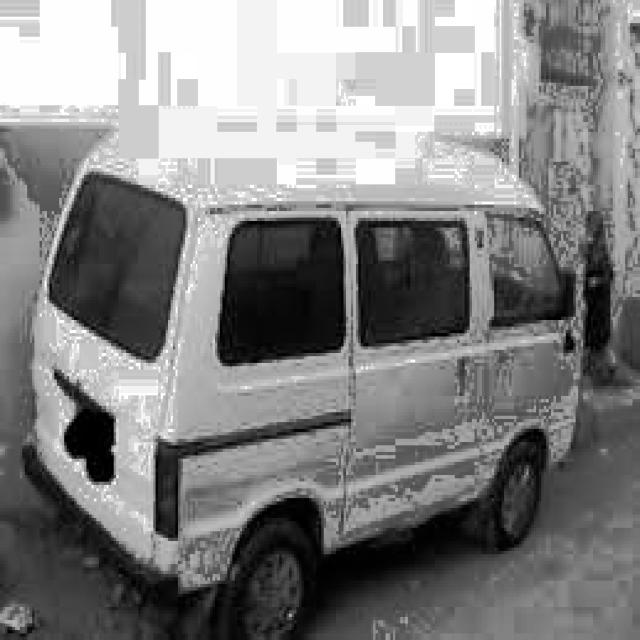LCV: (24, 115, 590, 640)
